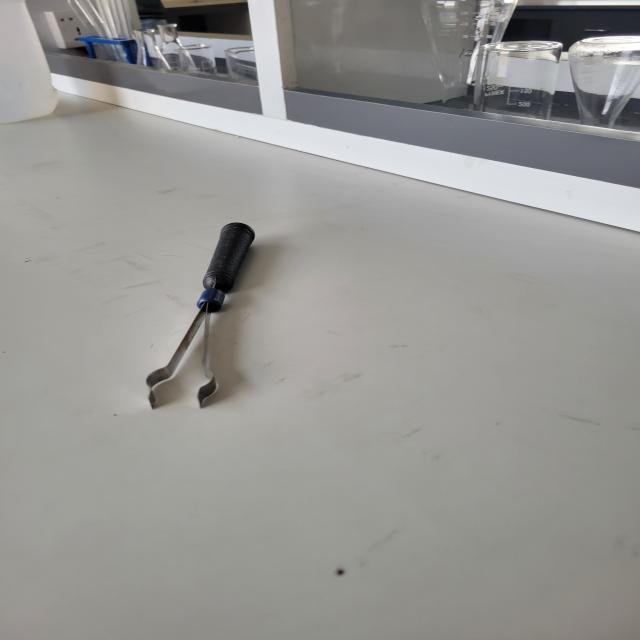TestTube_Holder: (115, 183, 304, 436)
